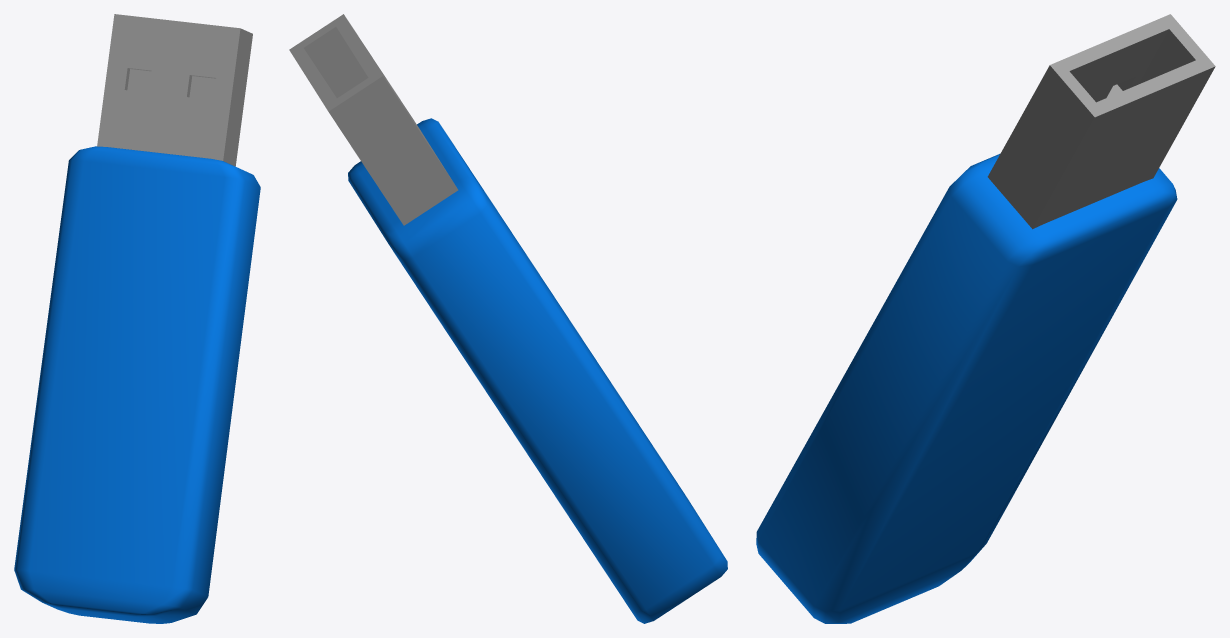
The model's file is USB.fbx.
3 views of the same model, side by side, from view 1: azimuth 30°, elevation 25°; view 2: azimuth 150°, elevation 25°; view 3: azimuth 270°, elevation 25° (orthographic). The views are drawn at different scales.
Visible parts, largest first — view 1: Cube.005, Cube.006; view 2: Cube.005, Cube.006; view 3: Cube.005, Cube.006.
Part boxes in pixels (x1,y1,x2,y2): Cube.005: [14, 146, 260, 623]; Cube.006: [97, 14, 252, 166]; Cube.005: [348, 118, 727, 623]; Cube.006: [289, 14, 458, 225]; Cube.005: [756, 154, 1177, 623]; Cube.006: [987, 14, 1215, 229].
Size of the model in its own units: 247 by 390 by 247.
